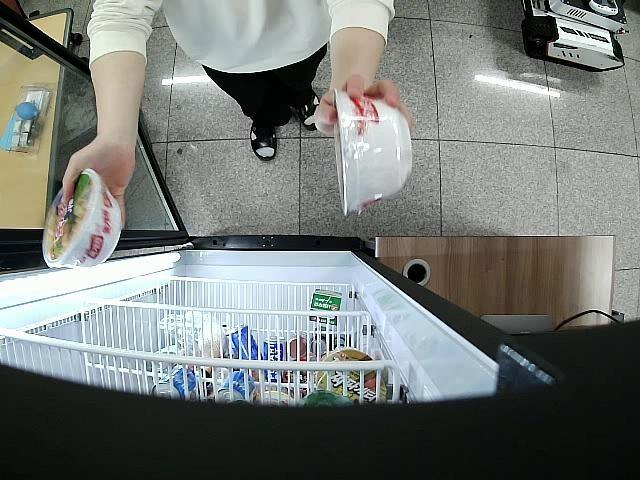09_yukGaeJang: (333, 87, 414, 216), (43, 168, 122, 268)
